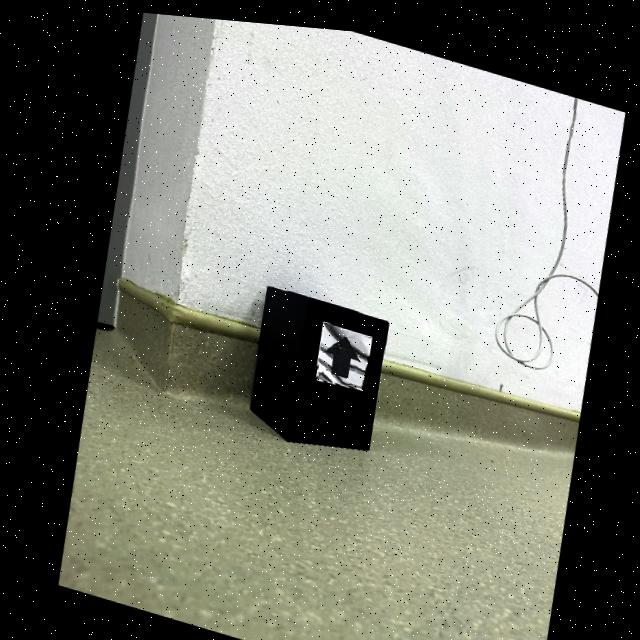UP: (321, 331, 354, 373)
